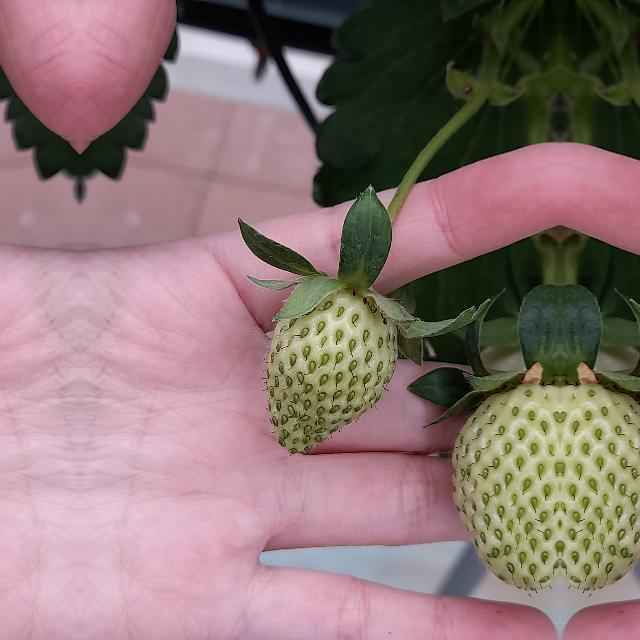Health_25: (456, 372, 560, 596), (266, 290, 398, 454), (560, 371, 640, 596)
